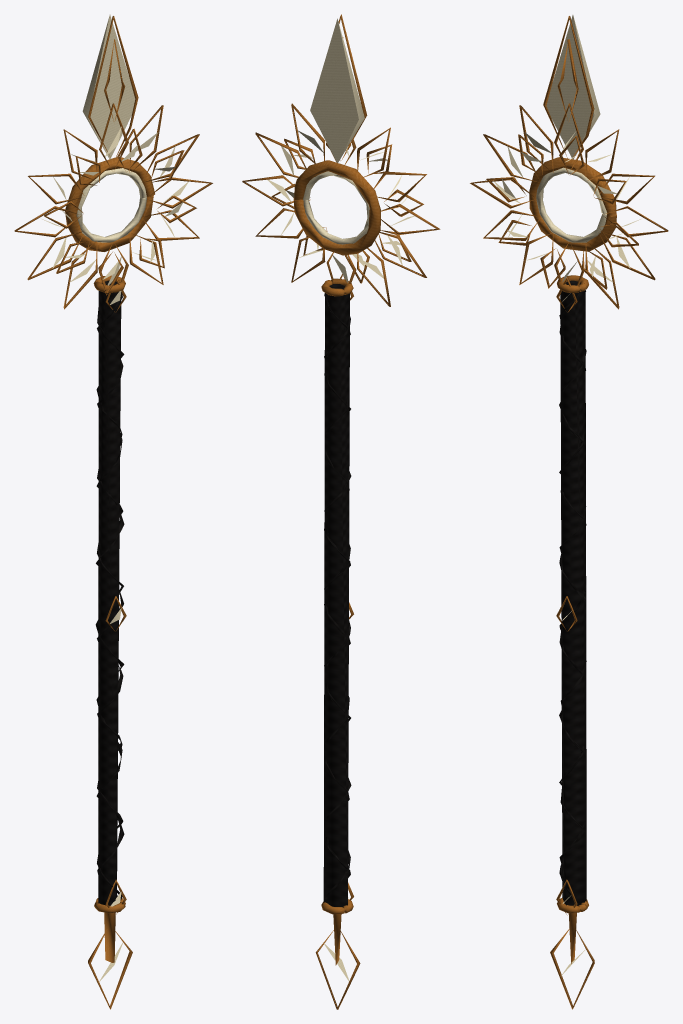
3 views of the same model, side by side, from view 1: azimuth 30°, elevation 25°; view 2: azimuth 150°, elevation 25°; view 3: azimuth 330°, elevation 25° (orthographic).
Parts seen in each view (by area): view 1: Grey_woven_grip, Folded_ivory_blade, Open_lotus_gold_core, Inner_enamel_circle, Crossed_grip_binding.001, Crossed_grip_binding, Gold_blade_edge, Counterweight_attachment, Counterweight_finial_gold_outline; view 2: Grey_woven_grip, Folded_ivory_blade, Open_lotus_gold_core, Inner_enamel_circle, Crossed_grip_binding.001, Crossed_grip_binding; view 3: Grey_woven_grip, Folded_ivory_blade, Open_lotus_gold_core, Inner_enamel_circle, Crossed_grip_binding, Crossed_grip_binding.001, Gold_blade_edge, Counterweight_finial_gold_outline.
Part boxes in pixels (x1,y1,x2,y2): Grey_woven_grip: (98,280,121,905); Folded_ivory_blade: (82,14,135,159); Open_lotus_gold_core: (65,156,154,251); Inner_enamel_circle: (76,168,146,242); Crossed_grip_binding.001: (96,292,124,896); Crossed_grip_binding: (95,307,124,899); Gold_blade_edge: (88,16,138,158); Counterweight_attachment: (104,912,115,962); Counterweight_finial_gold_outline: (88,929,132,1009); Grey_woven_grip: (323,284,349,907); Folded_ivory_blade: (310,18,364,162); Open_lotus_gold_core: (293,160,380,255); Inner_enamel_circle: (303,171,369,244); Crossed_grip_binding.001: (324,316,351,899); Crossed_grip_binding: (324,293,350,877); Grey_woven_grip: (560,280,586,905); Folded_ivory_blade: (546,15,600,159); Open_lotus_gold_core: (529,157,616,251); Inner_enamel_circle: (536,167,606,242); Crossed_grip_binding: (559,290,586,904); Crossed_grip_binding.001: (559,292,586,902); Gold_blade_edge: (543,16,594,161); Counterweight_finial_gold_outline: (550,928,594,1009).
Bounding box in the file's own units: 0.4699 × 2.25 × 0.0917.
Materials: 3 (3 with a texture image).
